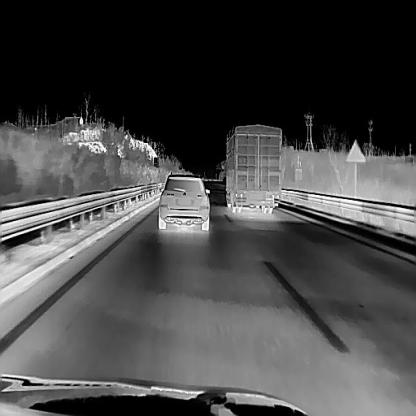car: (157, 170, 209, 230)
truck: (220, 123, 281, 213)
